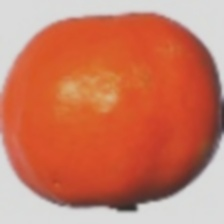tangerine: (30, 39, 185, 179)
